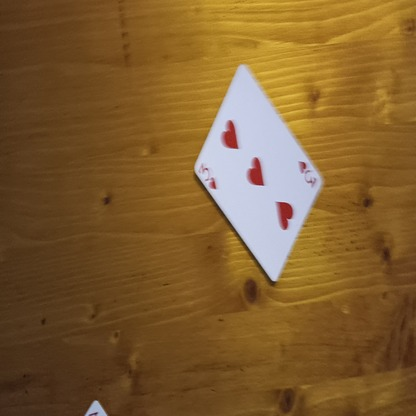3h: (194, 163, 217, 191), (297, 161, 319, 188)
